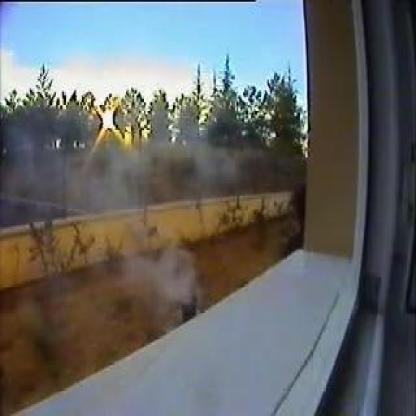-: (126, 236, 192, 296)
